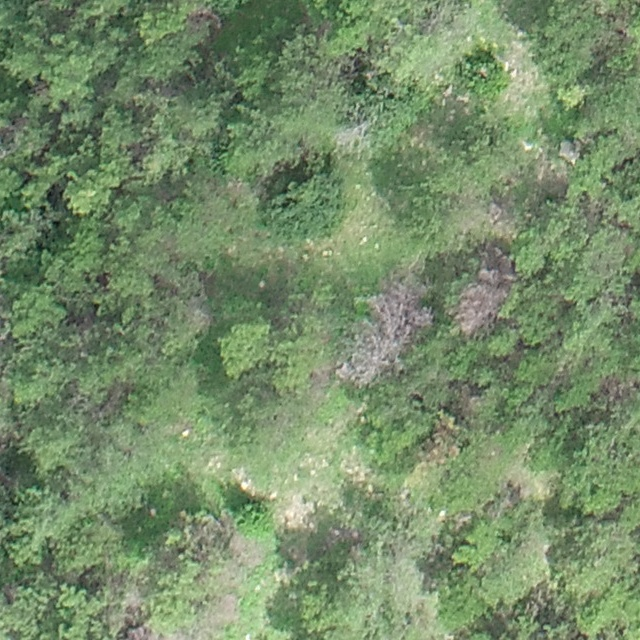unhealthy: (342, 277, 438, 383), (450, 274, 509, 338), (86, 381, 129, 419), (332, 115, 376, 151), (202, 594, 241, 630), (227, 531, 264, 567), (600, 372, 639, 404), (185, 8, 223, 30), (123, 621, 156, 639)
